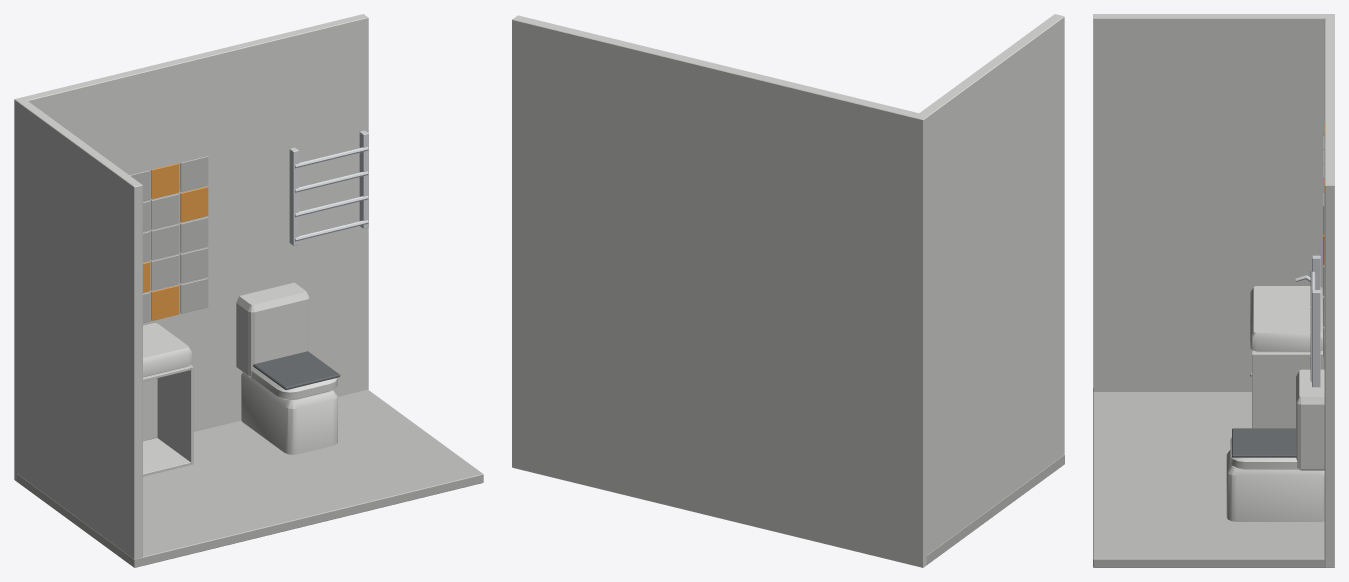
The model's file is bathroom-vignette-display-bay.glb.
3 views of the same model, side by side, from view 1: azimuth 30°, elevation 25°; view 2: azimuth 150°, elevation 25°; view 3: azimuth 270°, elevation 25° (orthographic). The views are drawn at different scales.
Parts seen in each view (by area): view 1: bathroom-vignette-bay; view 2: bathroom-vignette-bay; view 3: bathroom-vignette-bay.
Part boxes in pixels (box(x1,y1,x2,y2)): bathroom-vignette-bay: box(14, 14, 483, 567); bathroom-vignette-bay: box(512, 14, 1064, 567); bathroom-vignette-bay: box(1093, 14, 1334, 567).
Size of the model in its own units: 2.4 by 2.5 by 1.43.
